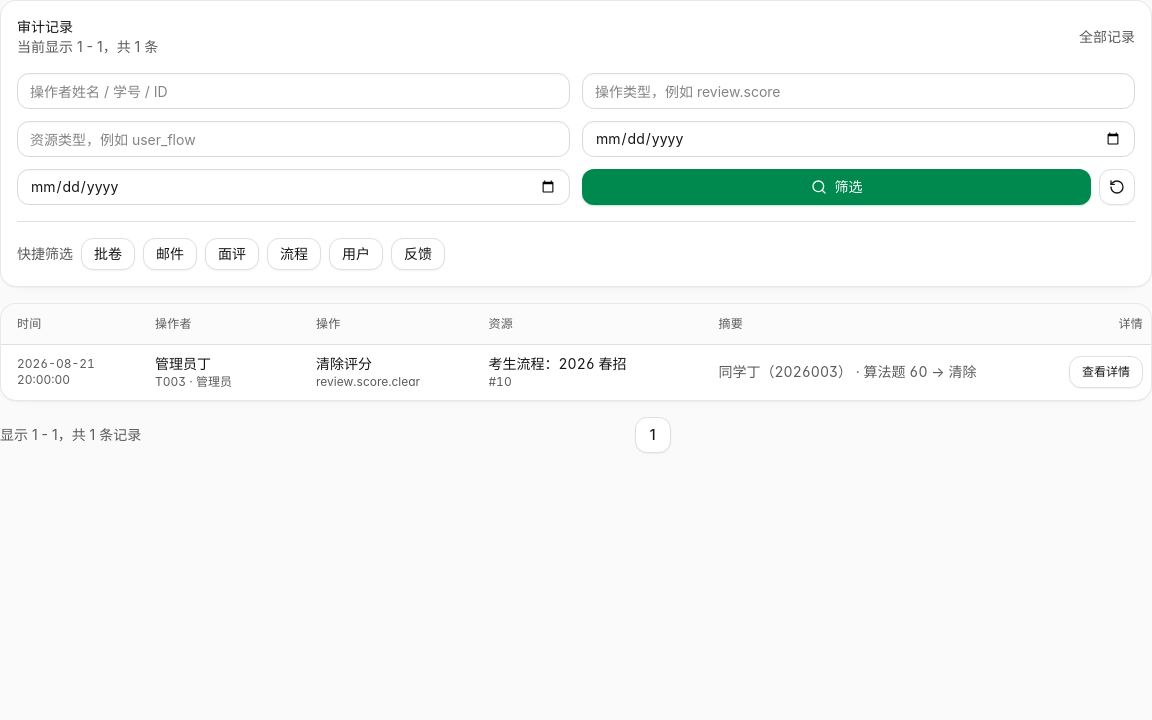
Test: AuditLogTable › reads a cleared score as 清除 without claiming an overwrite
expect the text "同学丁（2026003） · 算法题 60 → 清除" is shown: met, box [718,363,976,380]
expect the text "清除评分" is shown: met, box [316,355,372,372]
Click the button "查看详情" at (1106, 372), box [1069,356,1143,388]
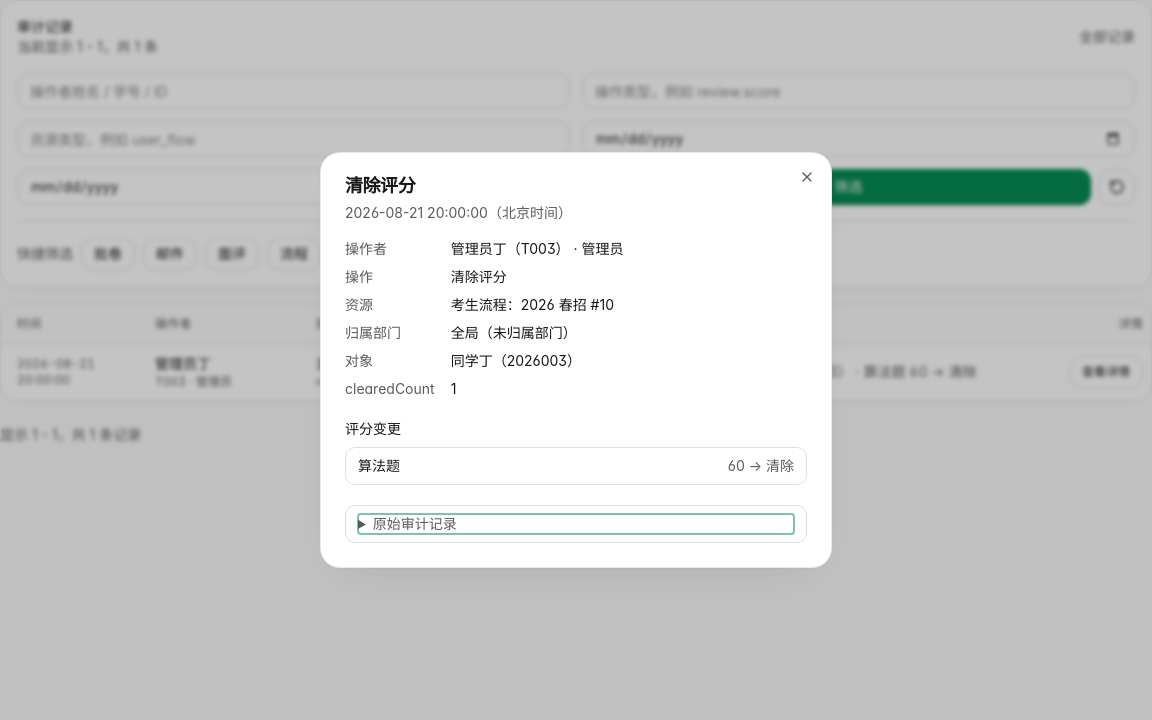
expect the text "同学丁（2026003） · 算法题 60 → 清除" is shown: met, box [718,363,976,380]
expect the text "评分变更" is shown: met, box [345,420,401,437]
